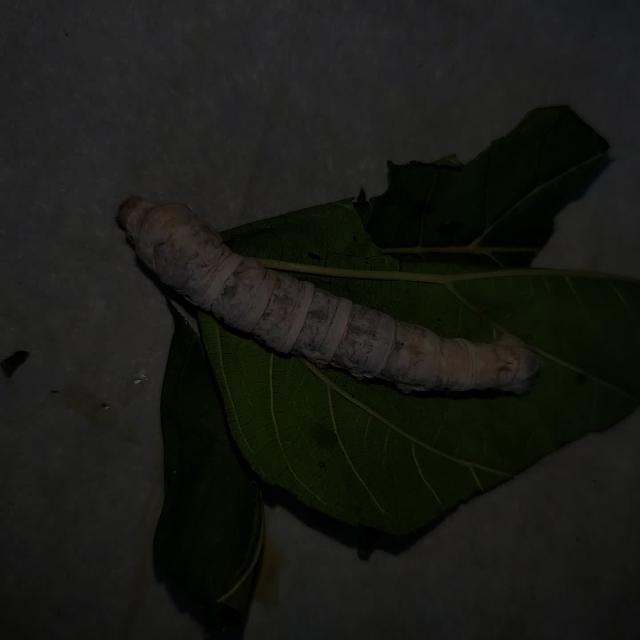Grasserie: (100, 160, 558, 429)
